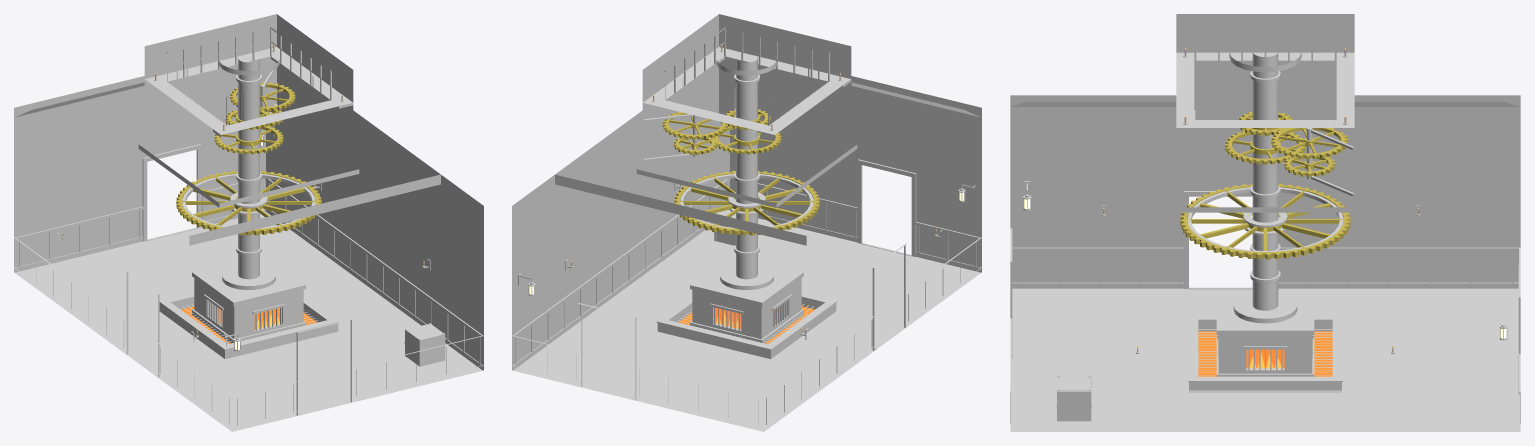
File: gear-shaft.glb
3 renders of one model, left to right at view 1: azimuth 30°, elevation 25°; view 2: azimuth 150°, elevation 25°; view 3: azimuth 270°, elevation 25°, orthographic. The views are drawn at different scales.
Visible parts, largest first — view 1: gear-shaft, gear-shaft_gear_ring; view 2: gear-shaft, gear-shaft_gear_ring; view 3: gear-shaft, gear-shaft_gear_ring.
Boxes of the visible parts, x1=… form: gear-shaft: x1=14, y1=14, x2=483, y2=431; gear-shaft_gear_ring: x1=176, y1=171, x2=321, y2=235; gear-shaft: x1=512, y1=14, x2=981, y2=431; gear-shaft_gear_ring: x1=674, y1=170, x2=819, y2=235; gear-shaft: x1=1010, y1=14, x2=1520, y2=431; gear-shaft_gear_ring: x1=1180, y1=183, x2=1350, y2=259.
Size of the model in its own units: 8 by 8 by 12.
